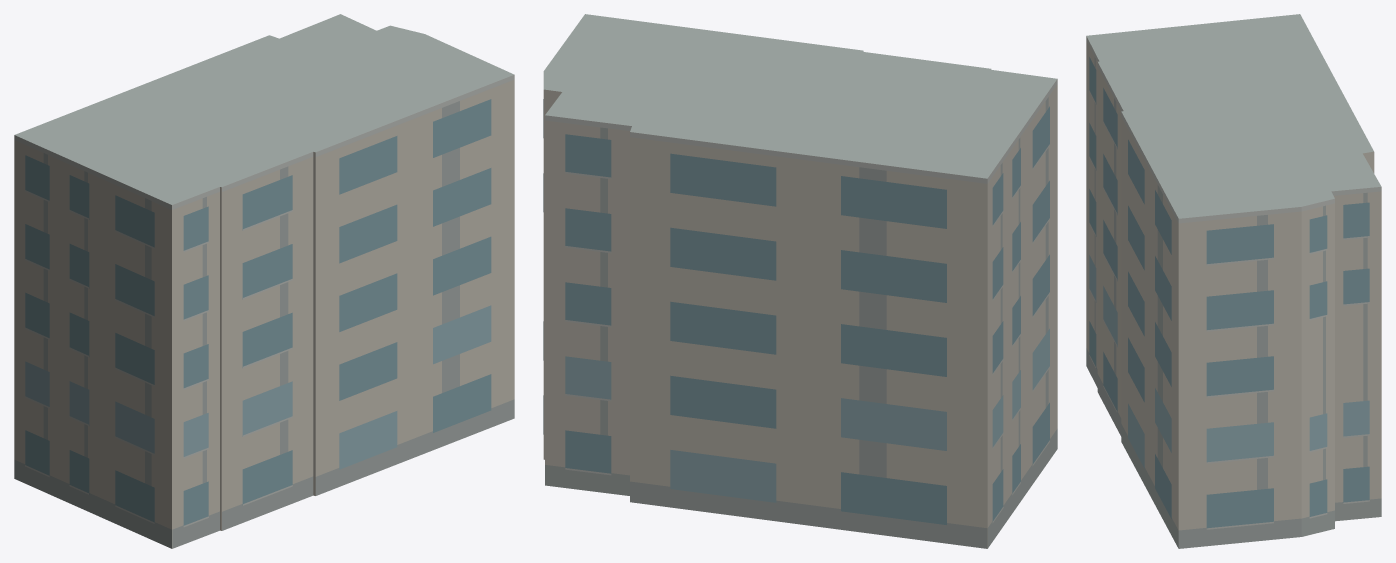
The model's file is survey-upis-32960360.glb.
The picture shows the model from 3 angles, left to right: view 1: azimuth 30°, elevation 25°; view 2: azimuth 150°, elevation 25°; view 3: azimuth 270°, elevation 25°; orthographic projection. The views are drawn at different scales.
Visible parts, largest first — view 1: survey-upis-32960360.tmp; view 2: survey-upis-32960360.tmp; view 3: survey-upis-32960360.tmp.
Boxes of the visible parts, x1,y1,x2,y2 form: survey-upis-32960360.tmp: (14,14,514,548); survey-upis-32960360.tmp: (543,14,1057,548); survey-upis-32960360.tmp: (1086,14,1381,548).
Size of the model in its own units: 22.89 by 17.2 by 13.95.
